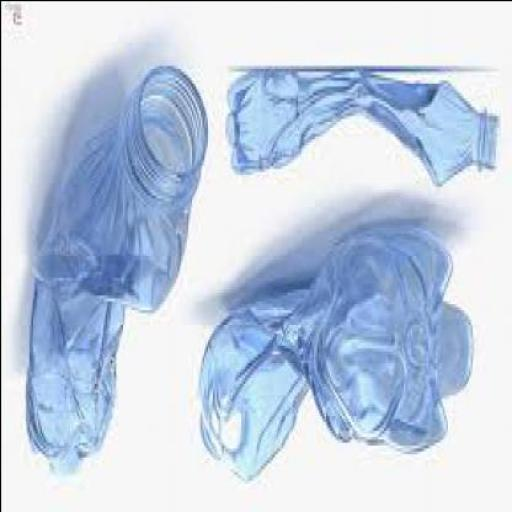plastic: (26, 67, 210, 486), (198, 223, 475, 483), (226, 67, 500, 191)
